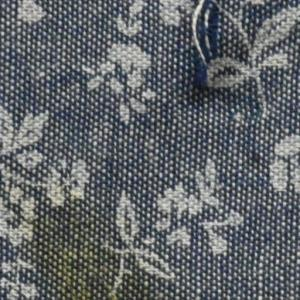Damage: (181, 1, 230, 109)
Oil Stain: (1, 186, 158, 300)
